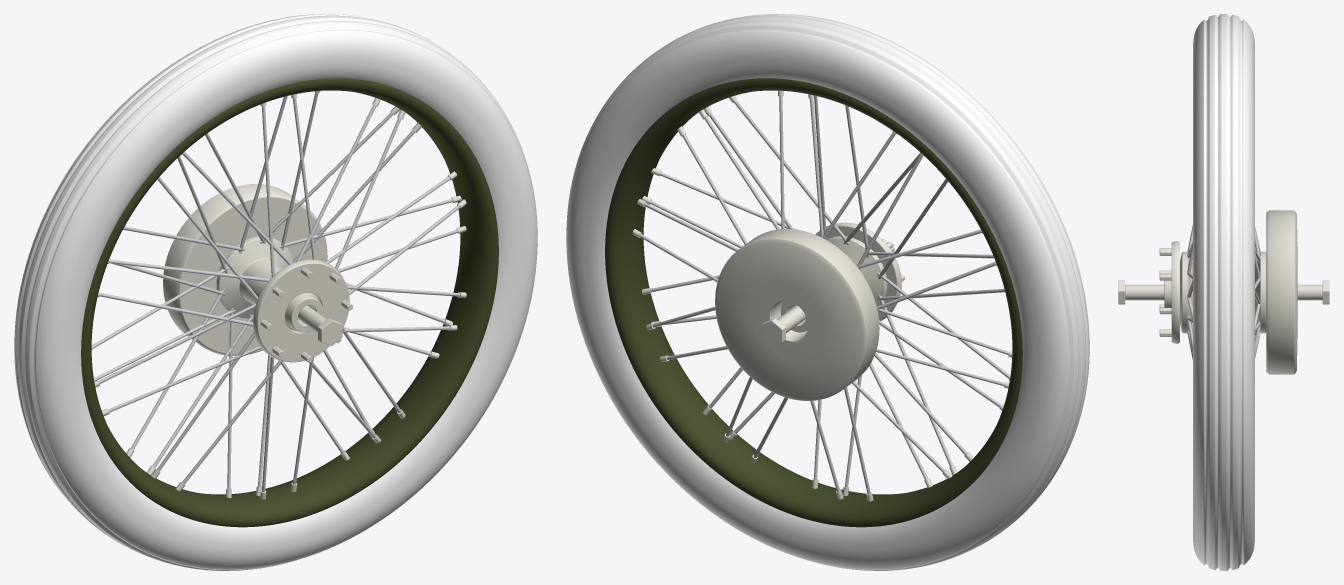
File: bike_vintage_vtwin__rear_wheel.glb
3 views of the same model, side by side, from view 1: azimuth 30°, elevation 25°; view 2: azimuth 150°, elevation 25°; view 3: azimuth 270°, elevation 25° (orthographic). The views are drawn at different scales.
Visible parts, largest first — view 1: wheels__rear_wheel__tyre, wheels__rear_wheel__rim, wheels__rear_wheel__spokes, wheels__rear_wheel__hub, wheels__rear_wheel__nipples, wheels__rear_wheel__axle; view 2: wheels__rear_wheel__tyre, wheels__rear_wheel__rim, wheels__rear_wheel__hub, wheels__rear_wheel__spokes, wheels__rear_wheel__nipples, wheels__rear_wheel__axle; view 3: wheels__rear_wheel__tyre, wheels__rear_wheel__hub, wheels__rear_wheel__axle, wheels__rear_wheel__spokes.
Boxes of the visible parts, <box> form: wheels__rear_wheel__tyre: <box>14,14,537,570</box>; wheels__rear_wheel__rim: <box>81,78,498,527</box>; wheels__rear_wheel__spokes: <box>91,92,460,492</box>; wheels__rear_wheel__hub: <box>163,184,352,362</box>; wheels__rear_wheel__nipples: <box>94,91,466,499</box>; wheels__rear_wheel__axle: <box>298,305,342,345</box>; wheels__rear_wheel__tyre: <box>566,14,1089,570</box>; wheels__rear_wheel__rim: <box>605,78,1022,527</box>; wheels__rear_wheel__hub: <box>715,222,904,400</box>; wheels__rear_wheel__spokes: <box>639,95,1010,494</box>; wheels__rear_wheel__nipples: <box>632,90,1012,501</box>; wheels__rear_wheel__axle: <box>761,239,894,345</box>; wheels__rear_wheel__tyre: <box>1193,14,1254,570</box>; wheels__rear_wheel__hub: <box>1159,210,1297,374</box>; wheels__rear_wheel__axle: <box>1118,280,1329,304</box>; wheels__rear_wheel__spokes: <box>1187,225,1260,359</box>.
Size of the model in its own units: 71.12 by 71.12 by 27.
